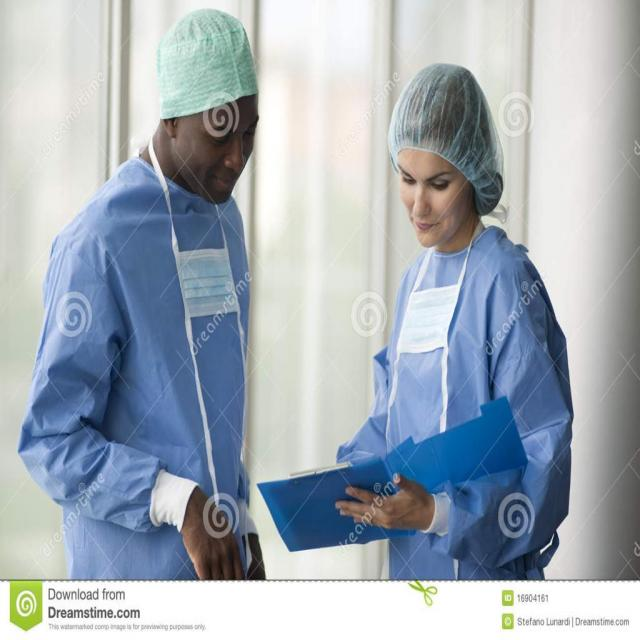nomask: (181, 92, 260, 202), (398, 143, 473, 251)
